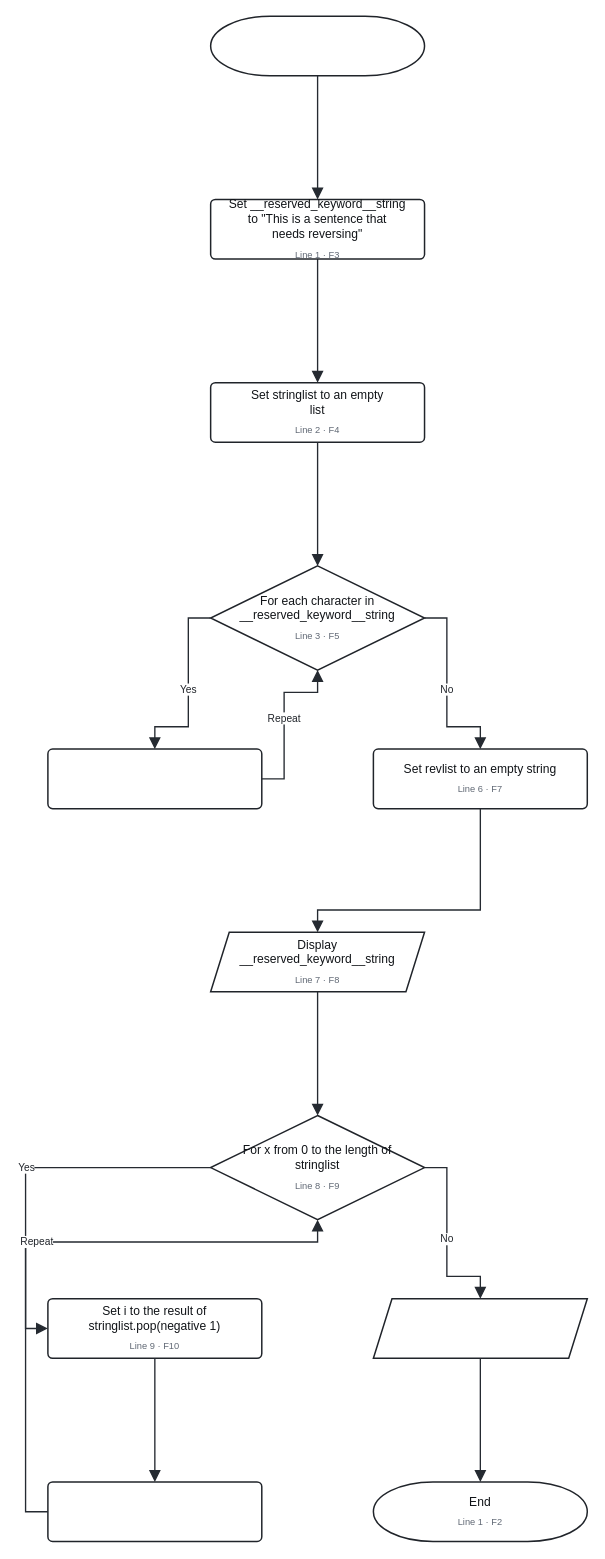
Some shapes in this 605 by 1559 pixel diagram are drawn without their labels. Each missing label, with the centre of its shape:
"Append character to stringlist Line 4 · F6" belongs at pixel 154 778.
"Display revlist Line 12 · F12" belongs at pixel 480 1328.
"Set revlist to revlist plus i Line 10 · F11" belongs at pixel 154 1511.
"Start Line 1 · F1" belongs at pixel 317 45.
